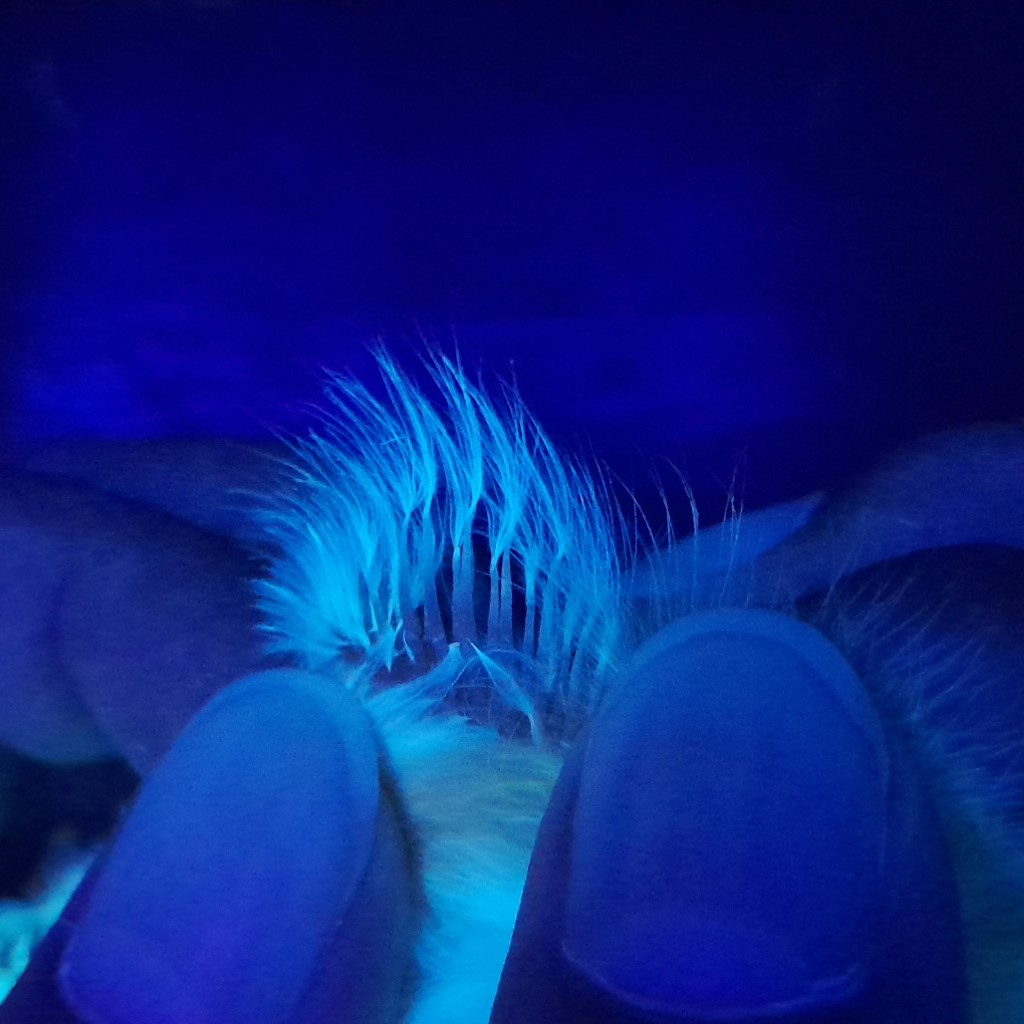male: (305, 488, 636, 768)
